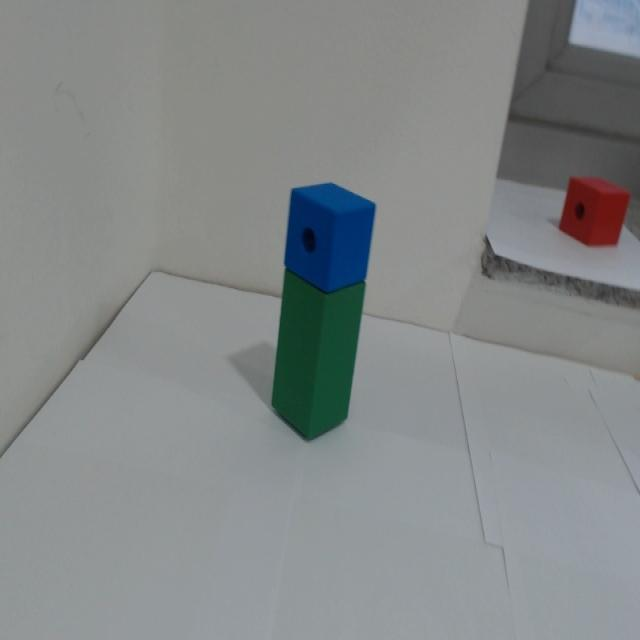cube: (263, 147, 380, 296)
